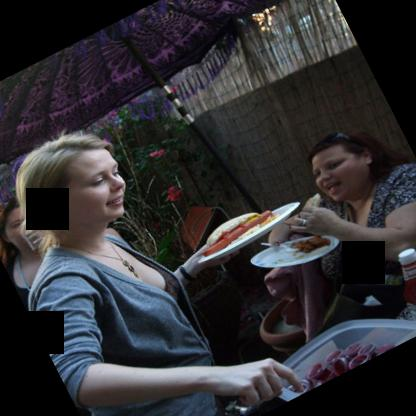handbag: (329, 244, 407, 327)
